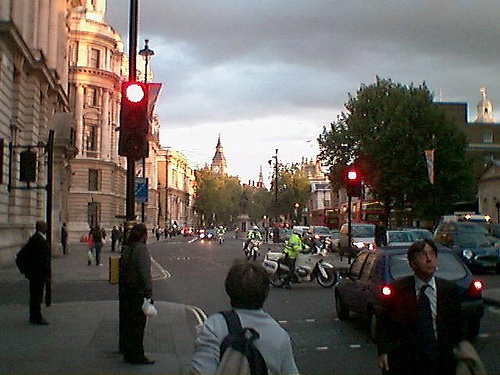non-vehicle: (262, 236, 339, 289), (242, 239, 262, 261), (215, 230, 224, 243)
